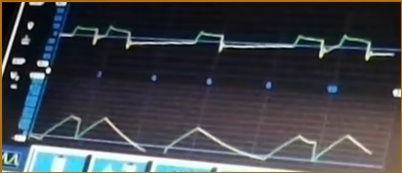Double_Triggering Flow: (67, 9, 395, 69)
Double_Triggering Volume: (37, 104, 372, 164)
